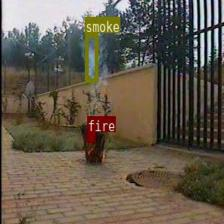fire: (86, 132, 94, 142)
smoke: (84, 32, 98, 82)
